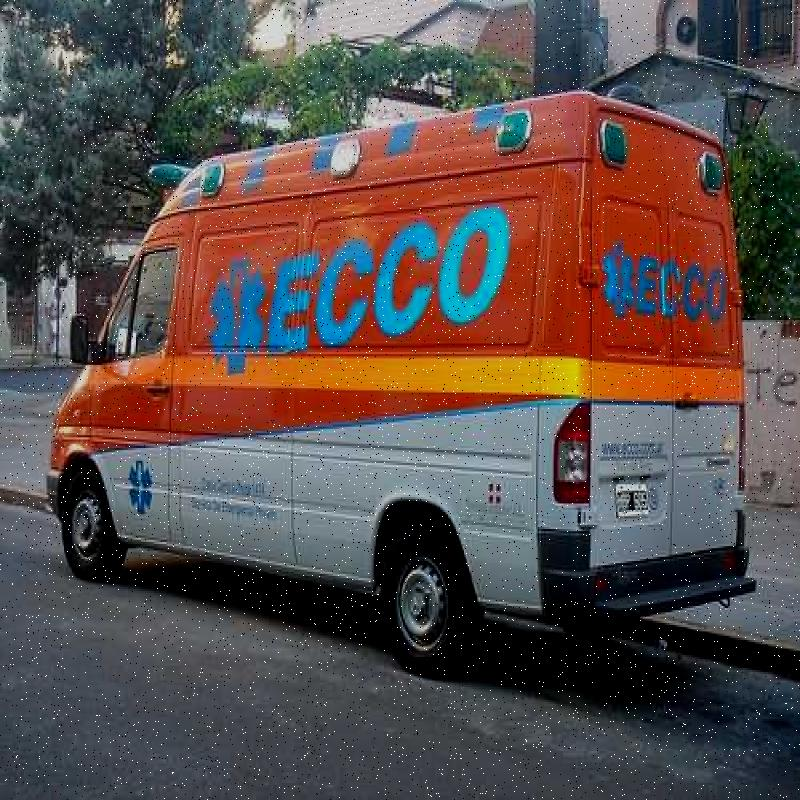AmbulanceSiren: (175, 123, 247, 224)
